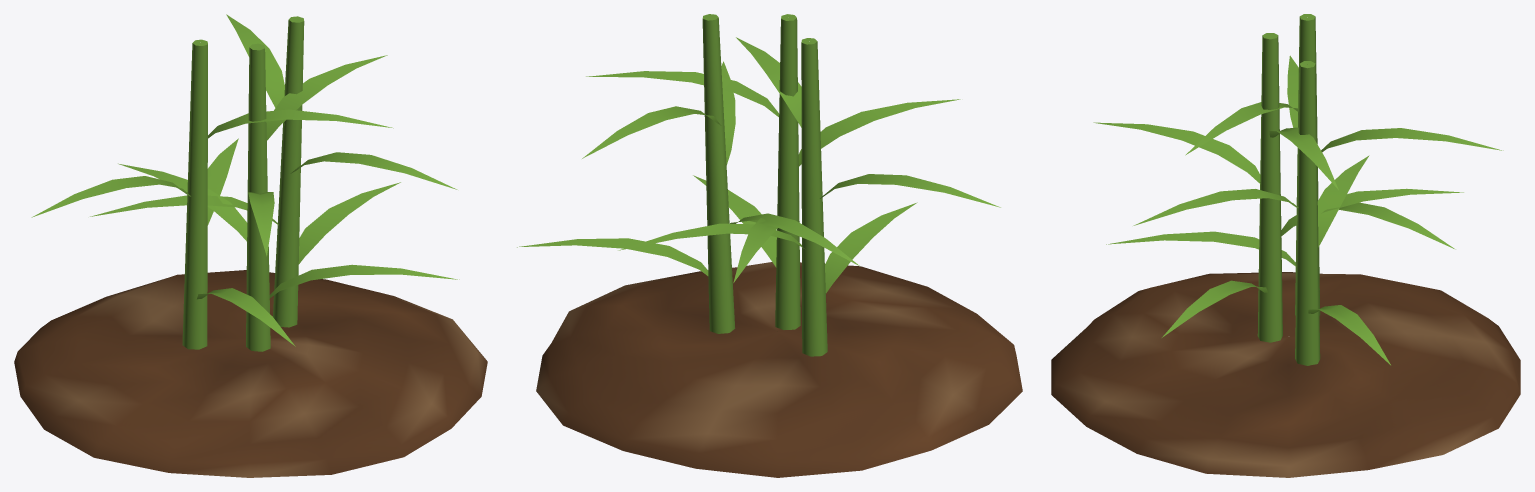
The model's file is plant-corn-2.gltf.
3 views of the same model, side by side, from view 1: azimuth 30°, elevation 25°; view 2: azimuth 150°, elevation 25°; view 3: azimuth 270°, elevation 25° (orthographic). The views are drawn at different scales.
Bounding box in the file's own units: 1.32 × 1.01 × 1.26.
